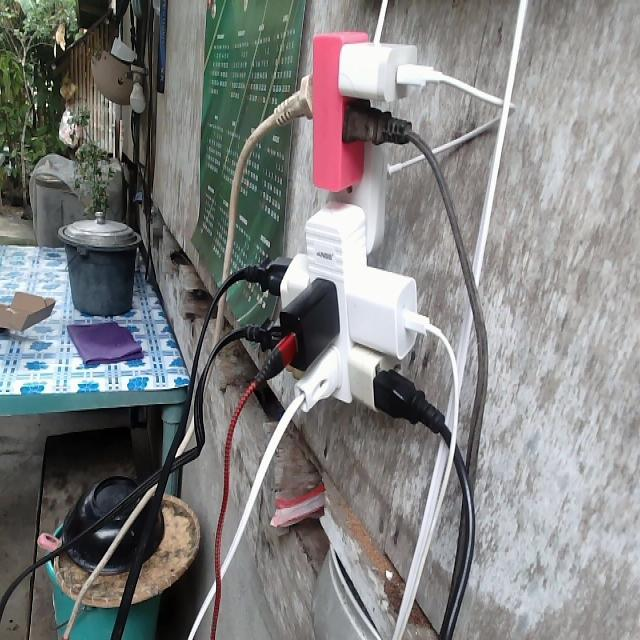-: (262, 31, 433, 416)
